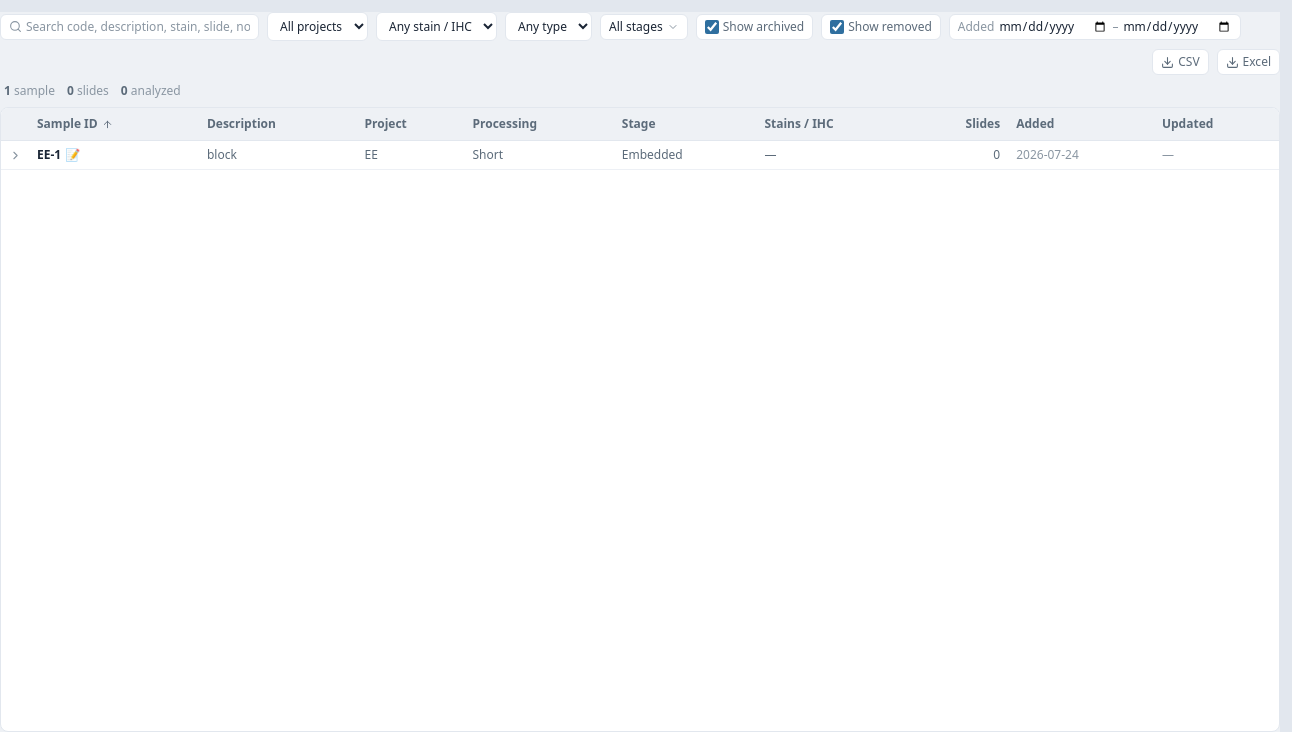
LogsView — correcting a sample's notes › opens the one note whose pencil was used, and leaves the others as text
Step 1. Click the text "EE-1" → (59, 155), box [37,147,80,163]
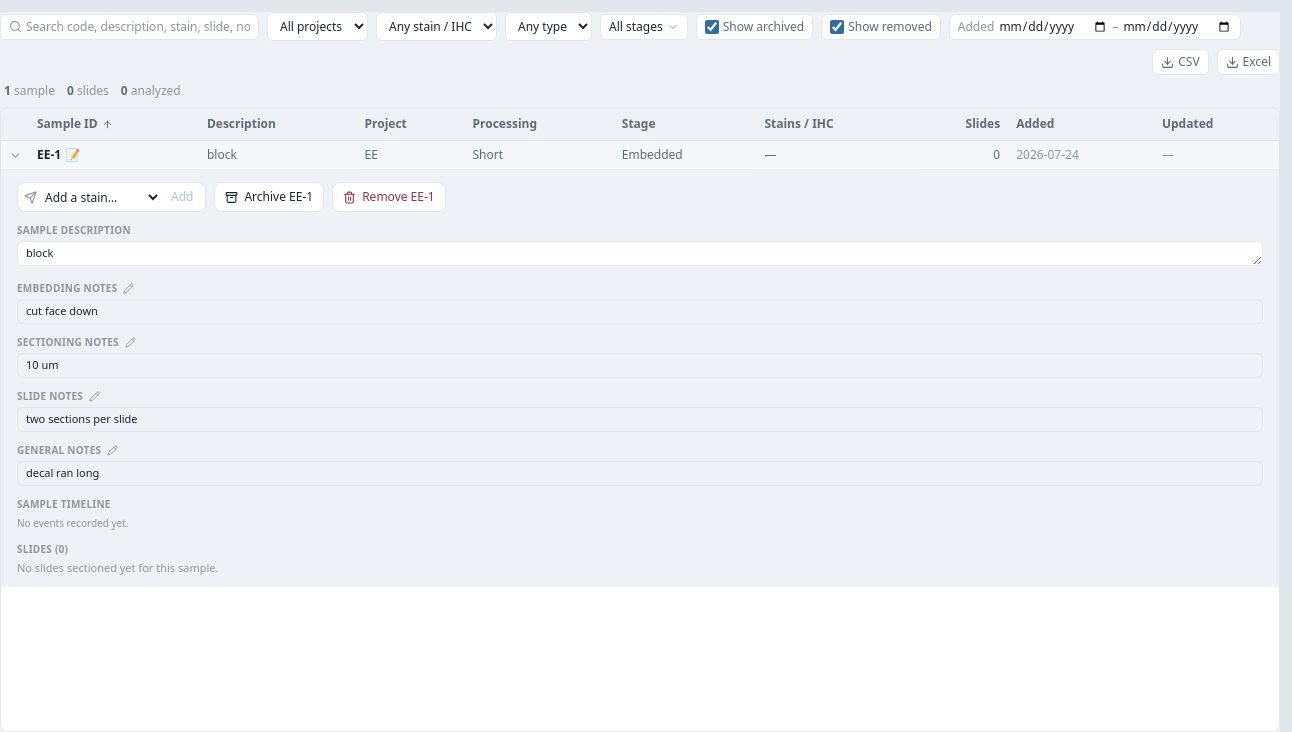
Step 2. Click the button named "Edit Sectioning Notes for EE-1" → (130, 343), box [119,331,142,354]
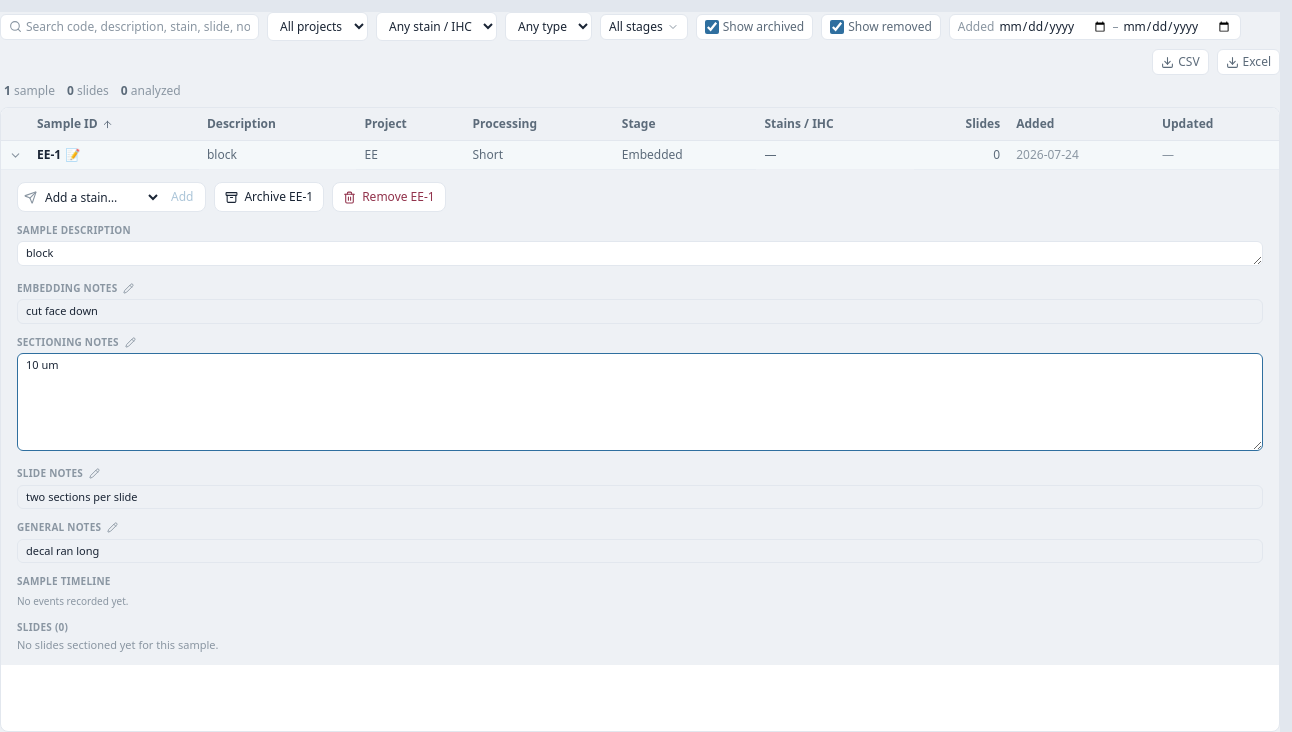
Expected: the text named "Embedding Notes for EE-1" reads "cut face down", [26,303,98,318]
Expected: the text named "General Notes for EE-1" reads "decal ran long", [26,542,99,558]
Expected: the text box named "Sectioning Notes for EE-1" holds "10 um", [17,353,1263,451]
